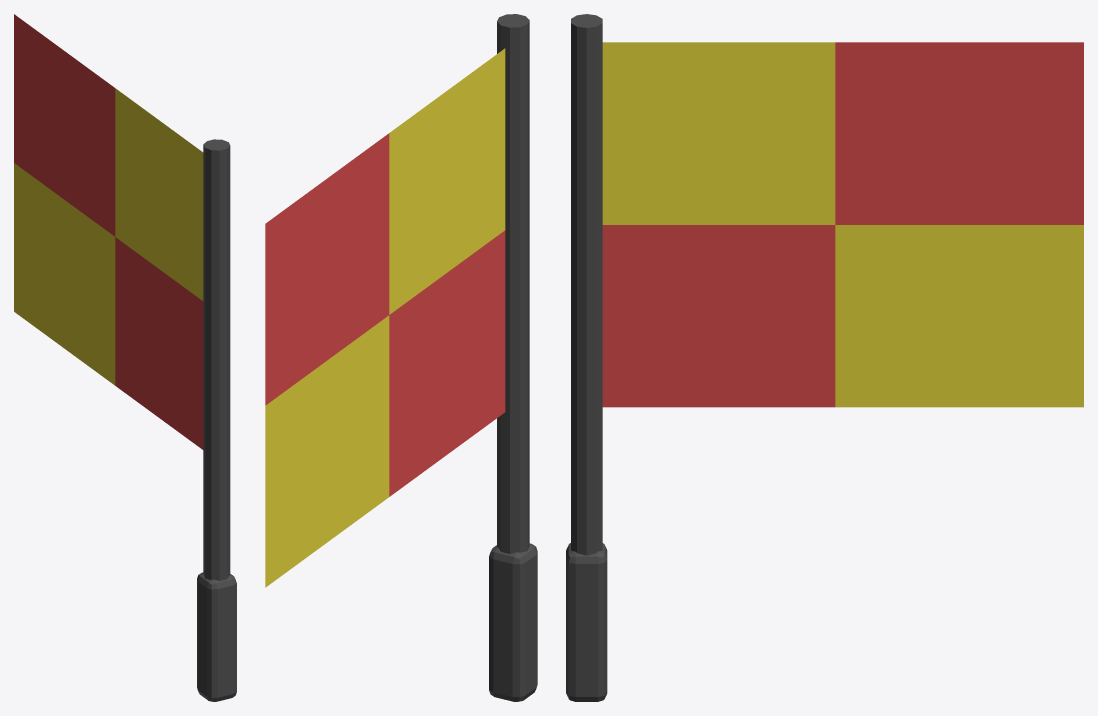
Rendered from SM_ARFlag.fbx.
The picture shows the model from 3 angles, left to right: view 1: azimuth 30°, elevation 25°; view 2: azimuth 150°, elevation 25°; view 3: azimuth 270°, elevation 25°; orthographic projection. The views are drawn at different scales.
Visible parts, largest first — view 1: SM_ARFlag; view 2: SM_ARFlag; view 3: SM_ARFlag.
Boxes of the visible parts, x1,y1,x2,y2 form: SM_ARFlag: (14, 14, 236, 701); SM_ARFlag: (265, 14, 537, 701); SM_ARFlag: (566, 14, 1083, 701).
Size of the model in its own units: 0.035 by 0.63 by 0.4375.
